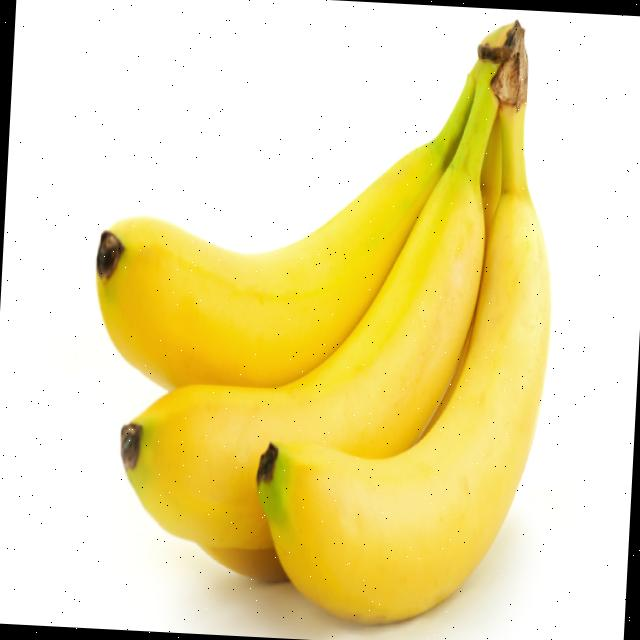Pisang: (249, 7, 568, 634), (89, 2, 513, 411)
